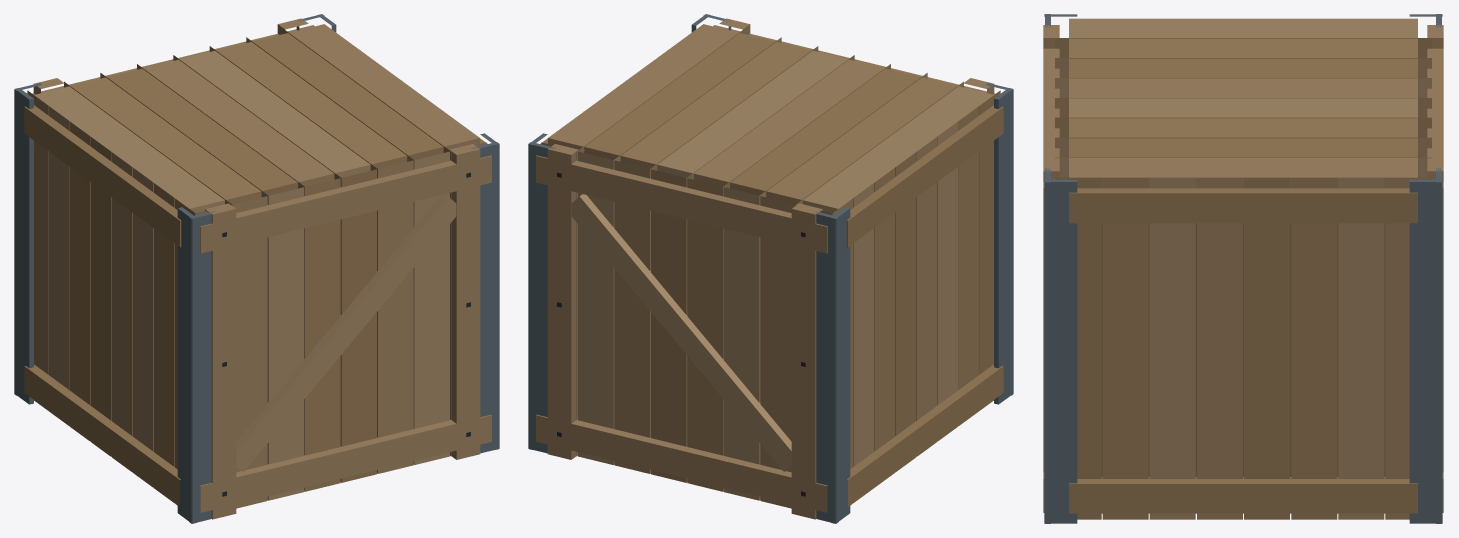
The model's file is 04_crate_wood_large.glb.
3 renders of one model, left to right at view 1: azimuth 30°, elevation 25°; view 2: azimuth 150°, elevation 25°; view 3: azimuth 270°, elevation 25°, orthographic. The views are drawn at different scales.
Parts seen in each view (by area): view 1: 02_crate_wood_large; view 2: 02_crate_wood_large; view 3: 02_crate_wood_large.
Part boxes in pixels (bbox=[...]): 02_crate_wood_large: bbox=[14, 14, 499, 523]; 02_crate_wood_large: bbox=[528, 14, 1013, 523]; 02_crate_wood_large: bbox=[1043, 14, 1443, 523].
Bounding box in the file's own units: 1.7 × 1.6 × 1.71.
